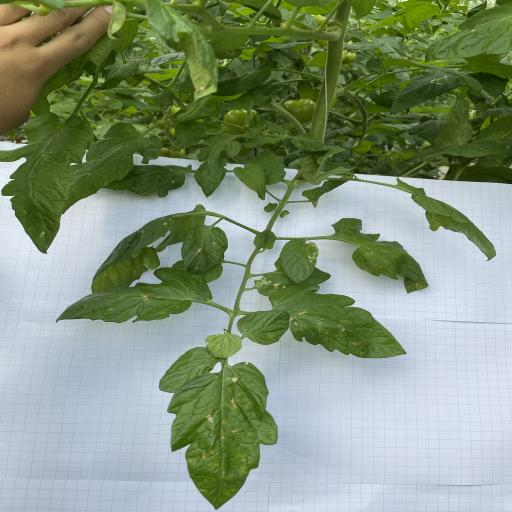Healthy: (232, 163, 266, 201)
Leaf_Miner: (254, 266, 331, 296), (280, 238, 320, 284)
